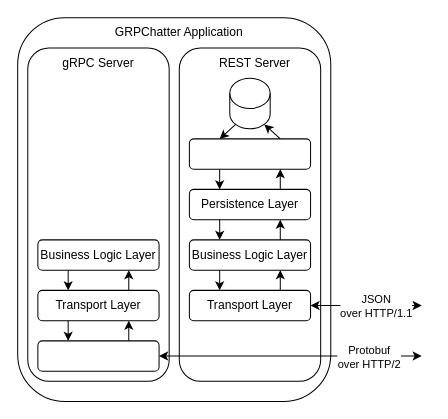
Some shapes in this 448 by 419 pixel diagram are drawn without their labels. The shapes that lost their labels are listed below. From the top down, each one's box as (x1, y1, x2, y2) in pixels, then its label:
(188, 138, 311, 169): Database Layer
(37, 340, 159, 371): gRPC Stub
